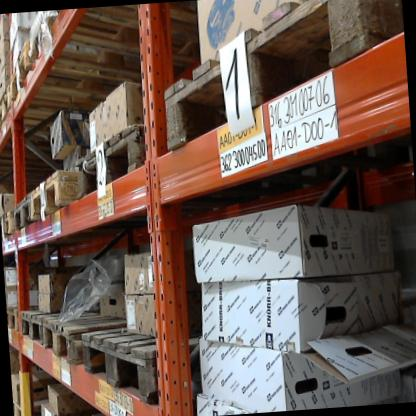pallet: (141, 0, 407, 158), (82, 318, 233, 404), (28, 5, 163, 90), (0, 36, 128, 123), (36, 298, 152, 389), (0, 74, 120, 148), (71, 115, 161, 209), (27, 155, 88, 230), (19, 301, 66, 357), (15, 369, 59, 413), (10, 184, 40, 248), (13, 393, 51, 416), (1, 205, 19, 245), (7, 303, 22, 331)
